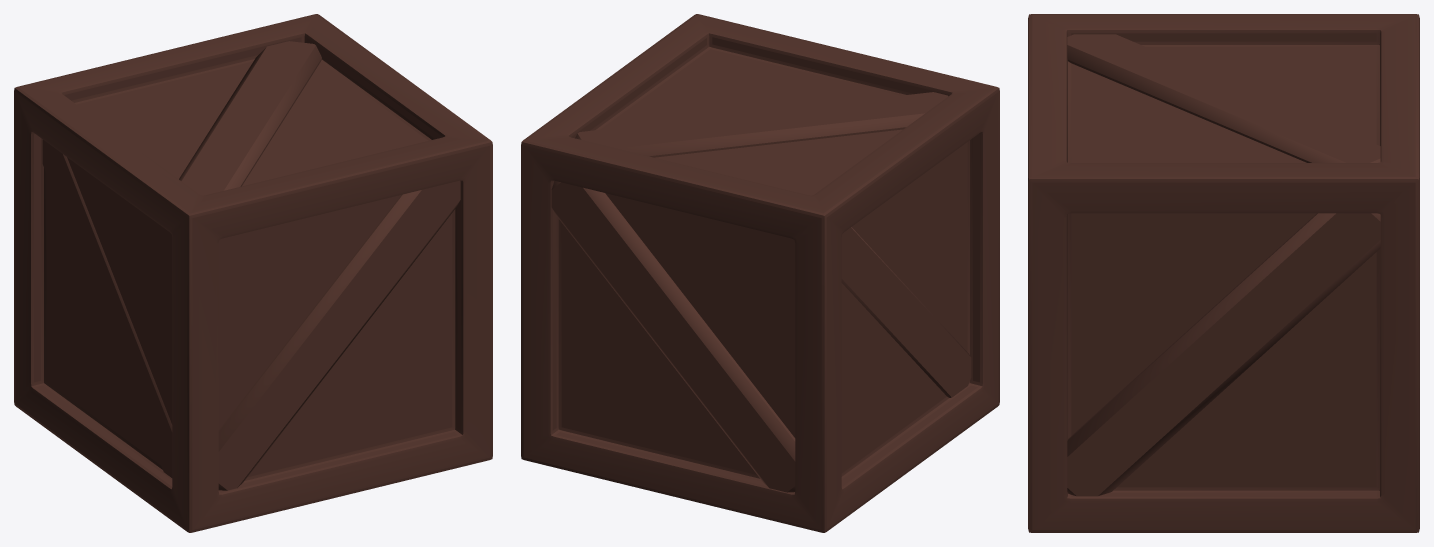
The picture shows the model from 3 angles, left to right: view 1: azimuth 30°, elevation 25°; view 2: azimuth 150°, elevation 25°; view 3: azimuth 270°, elevation 25°; orthographic projection. The views are drawn at different scales.
Visible parts, largest first — view 1: Box, Cube.061, Cube.060, Cube.062; view 2: Box, Cube.058, Cube.060, Cube.062; view 3: Box, Cube.059, Cube.060.
Part boxes in pixels (x1,y1,x2,y2): Box: (14,14,492,532); Cube.061: (218,180,460,490); Cube.060: (179,41,321,195); Cube.062: (42,139,172,477); Box: (521,14,999,532); Cube.058: (551,180,795,492); Cube.060: (575,92,948,157); Cube.062: (841,227,971,397); Box: (1028,14,1419,532); Cube.059: (1067,213,1380,496); Cube.060: (1067,34,1380,162).
Bounding box in the file's own units: 231 × 231 × 231.
